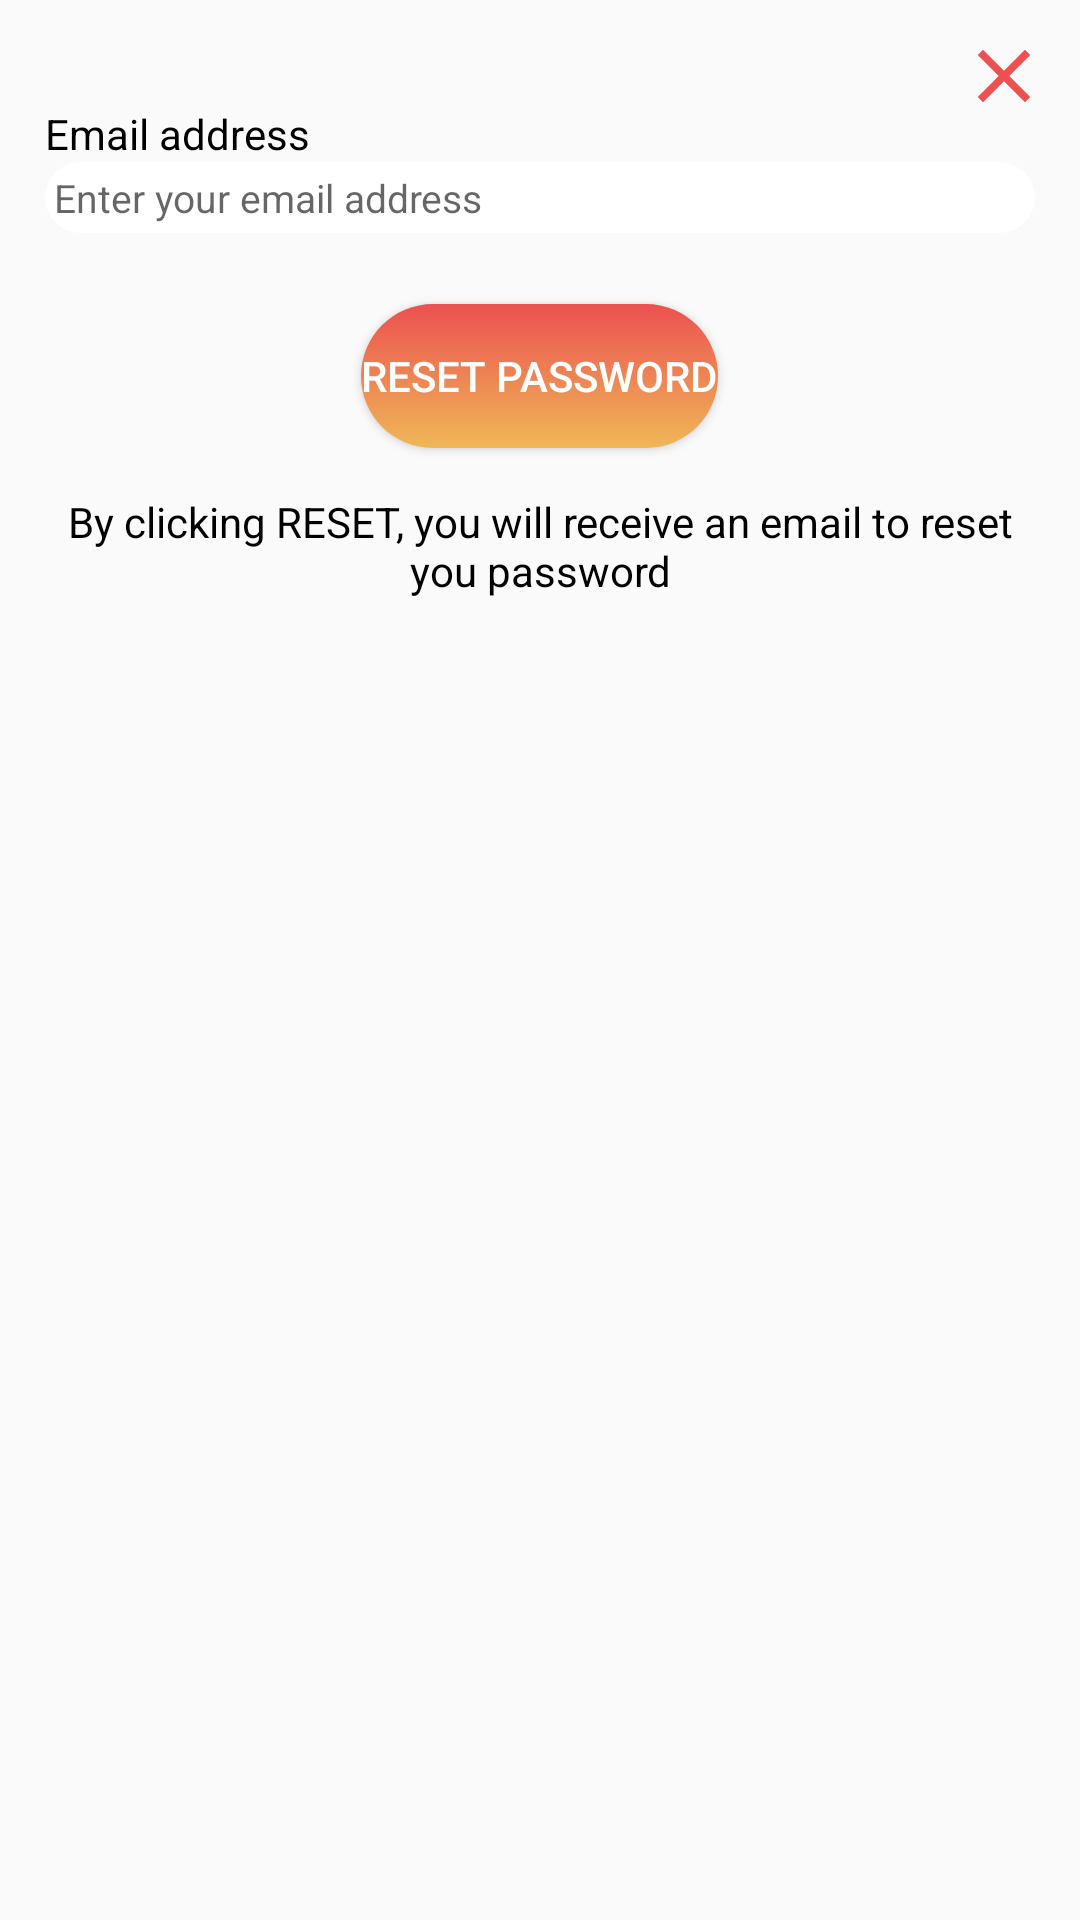

Where to tap for icons on this 1080 x 1920 app screen, as (x=x, y=y):
close: (x=1004, y=76)
